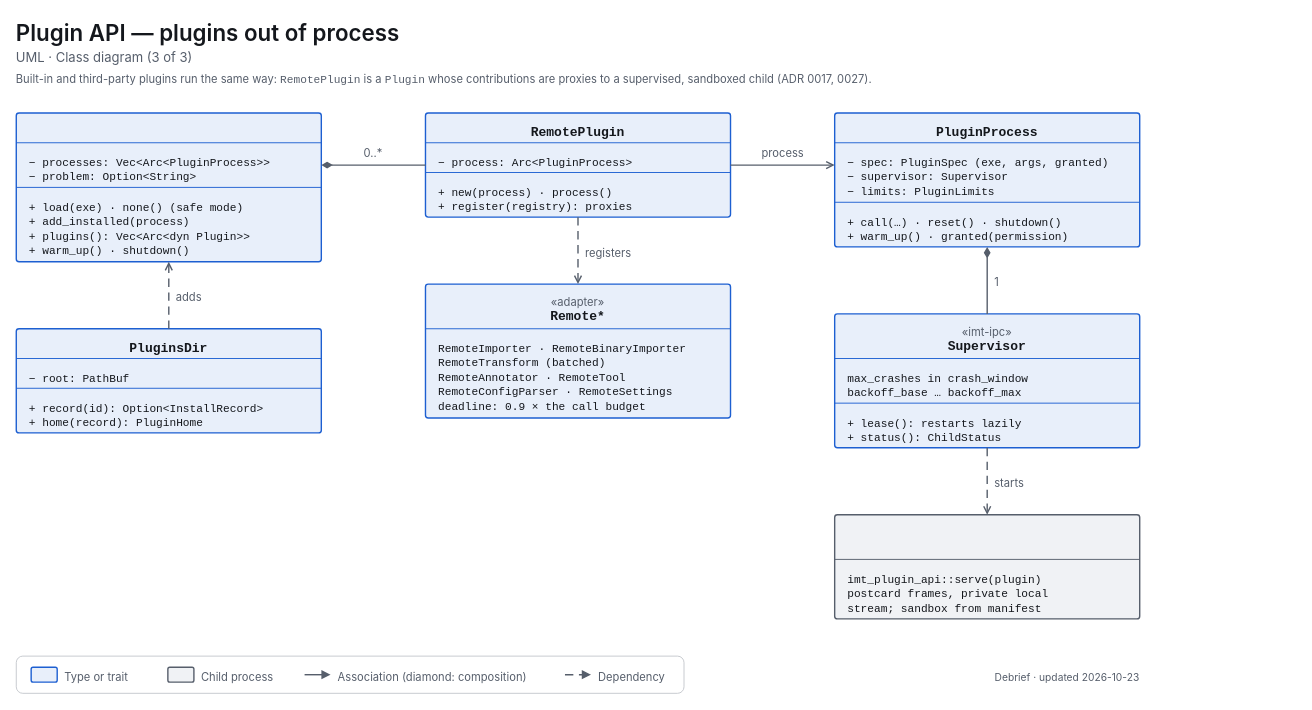
The diagram is 1312 pixels wide and 710 high, and some of its shapes have lost their labels. The box of each missing label's shape, as (x1, y1, x2, y2) in pixels:
Builtins: (15, 112, 322, 262)
«child process» imt-plugins --plugin <id>: (834, 514, 1140, 619)
